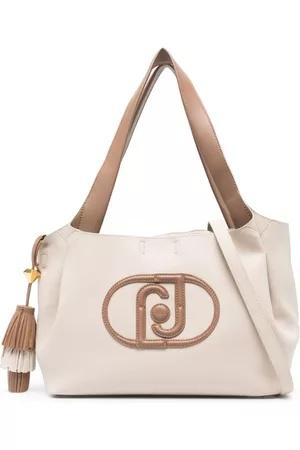LIU-JO: (135, 273, 186, 349)
